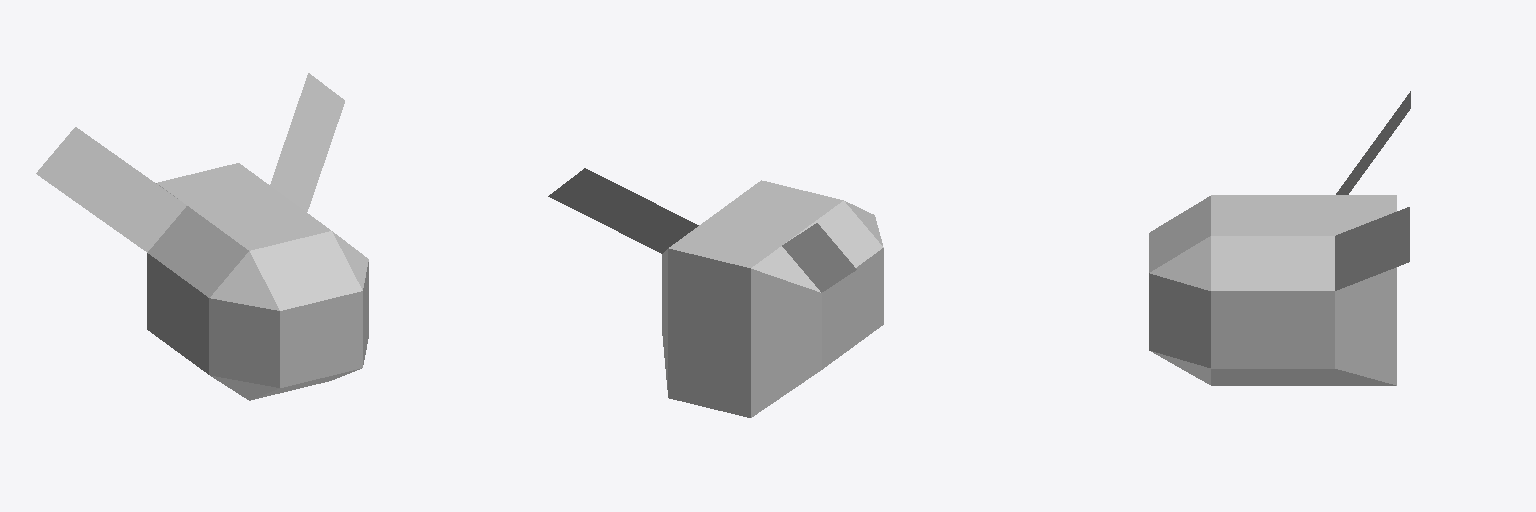
Rendered from float_Head.obj.
The picture shows the model from 3 angles: view 1: azimuth 30°, elevation 25°; view 2: azimuth 150°, elevation 25°; view 3: azimuth 270°, elevation 25°; orthographic projection.
Parts seen in each view (by area): view 1: Head; view 2: Head; view 3: Head.
Part boxes in pixels (bbox=[...]): Head: bbox=[36, 73, 368, 400]; Head: bbox=[548, 168, 883, 417]; Head: bbox=[1149, 91, 1410, 385].
Bounding box in the file's own units: 4.38 × 2.96 × 3.22.